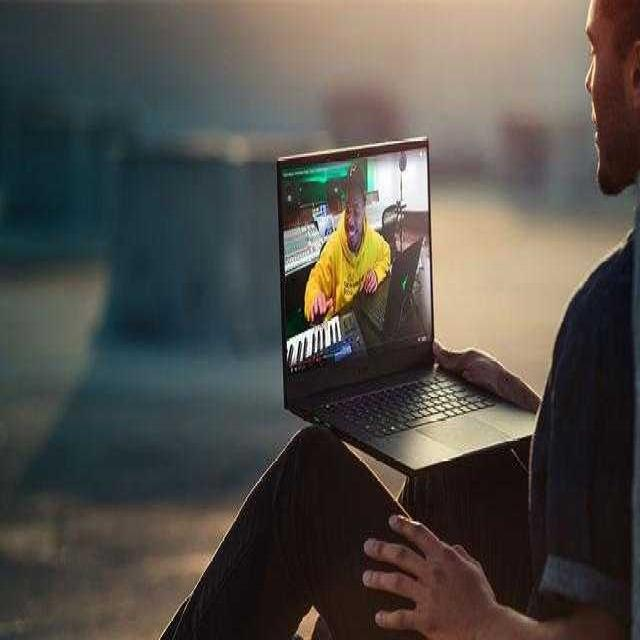laptop: (248, 138, 542, 519)
